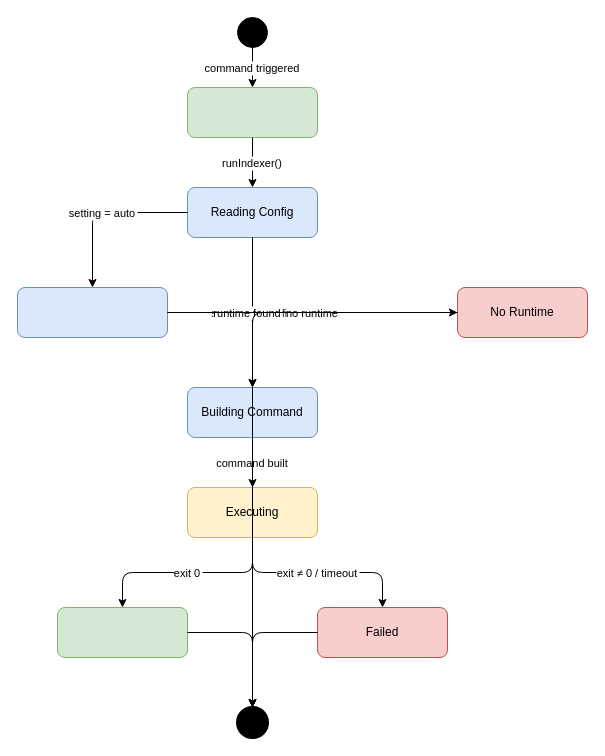
Some shapes in this 605 by 756 pixel diagram are drawn without their labels. The shapes that lost their labels are listed below. From the top down, each one's box as (x1, y1, x2, y2) in pixels, then its label:
(186, 86, 318, 138): Idle
(16, 286, 168, 338): Detecting Runtime
(56, 606, 188, 658): Success
